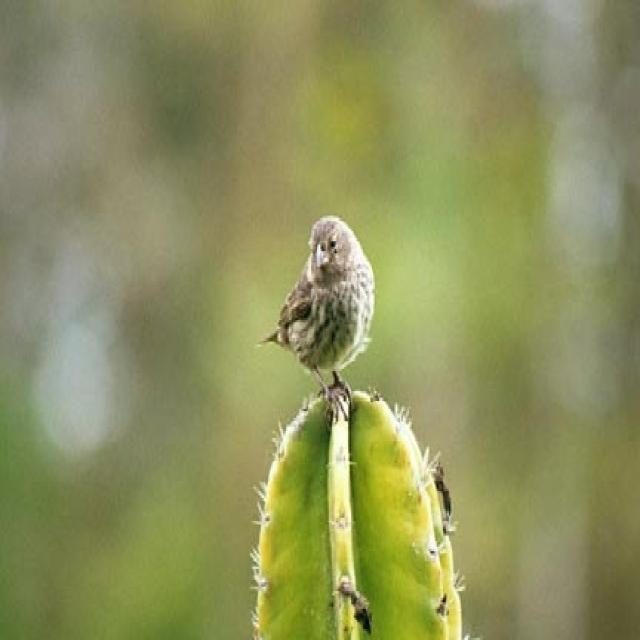bird: (254, 213, 376, 424)
